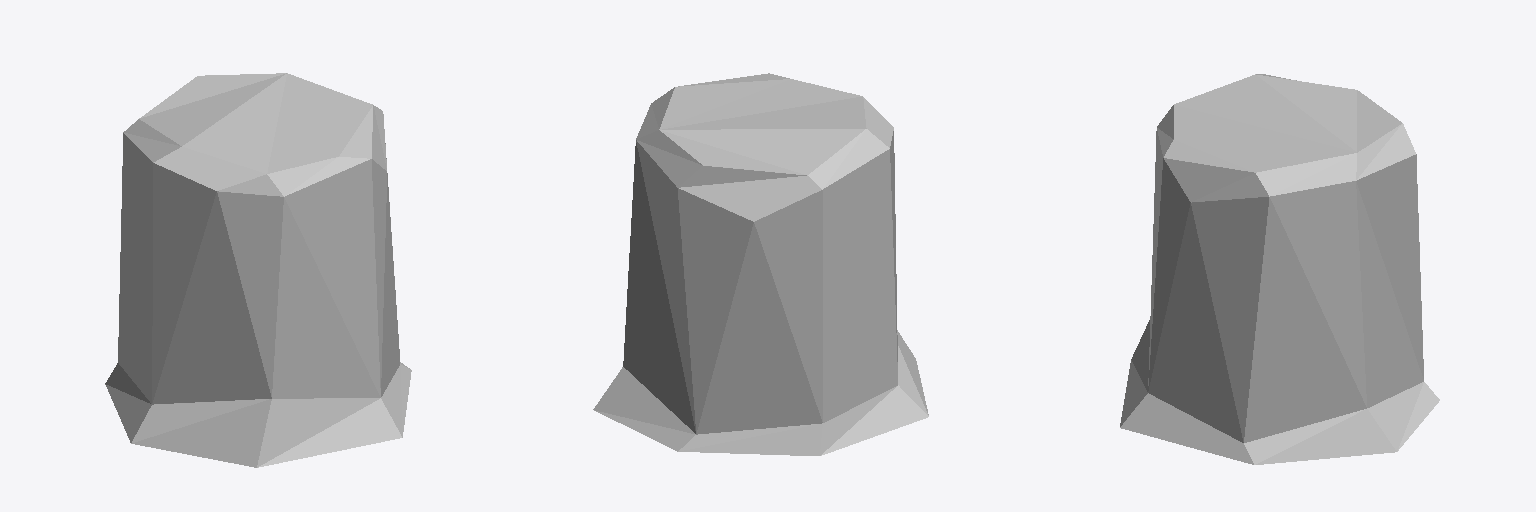
File: Stump.obj
3 renders of one model, left to right at view 1: azimuth 30°, elevation 25°; view 2: azimuth 150°, elevation 25°; view 3: azimuth 270°, elevation 25°, orthographic.
Visible parts, largest first — view 1: Cylinder; view 2: Cylinder; view 3: Cylinder.
Part boxes in pixels (bbox=[...]): Cylinder: bbox=[105, 73, 411, 467]; Cylinder: bbox=[593, 73, 928, 455]; Cylinder: bbox=[1120, 74, 1439, 464].
Bounding box in the file's own units: 2.3 × 2.14 × 2.23.